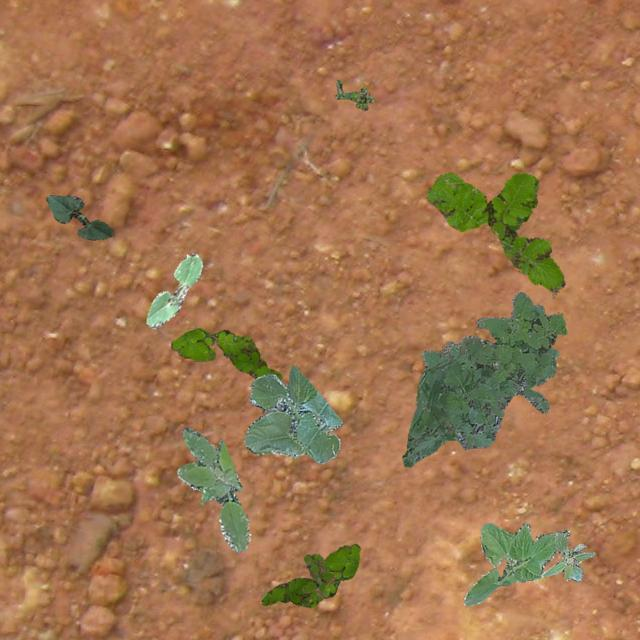crop: (244, 364, 340, 462), (462, 522, 568, 604), (146, 252, 202, 328), (46, 194, 112, 238)
weed: (402, 290, 566, 466), (426, 170, 564, 294), (176, 426, 250, 550), (260, 542, 360, 606), (170, 328, 280, 378), (540, 530, 594, 580), (300, 554, 334, 596), (334, 80, 374, 110)
